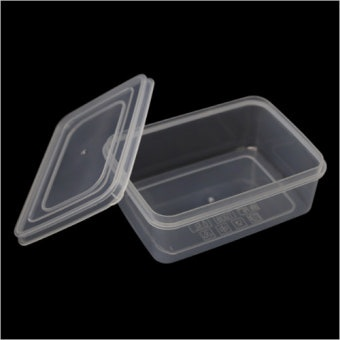plastic: (15, 72, 328, 263)
